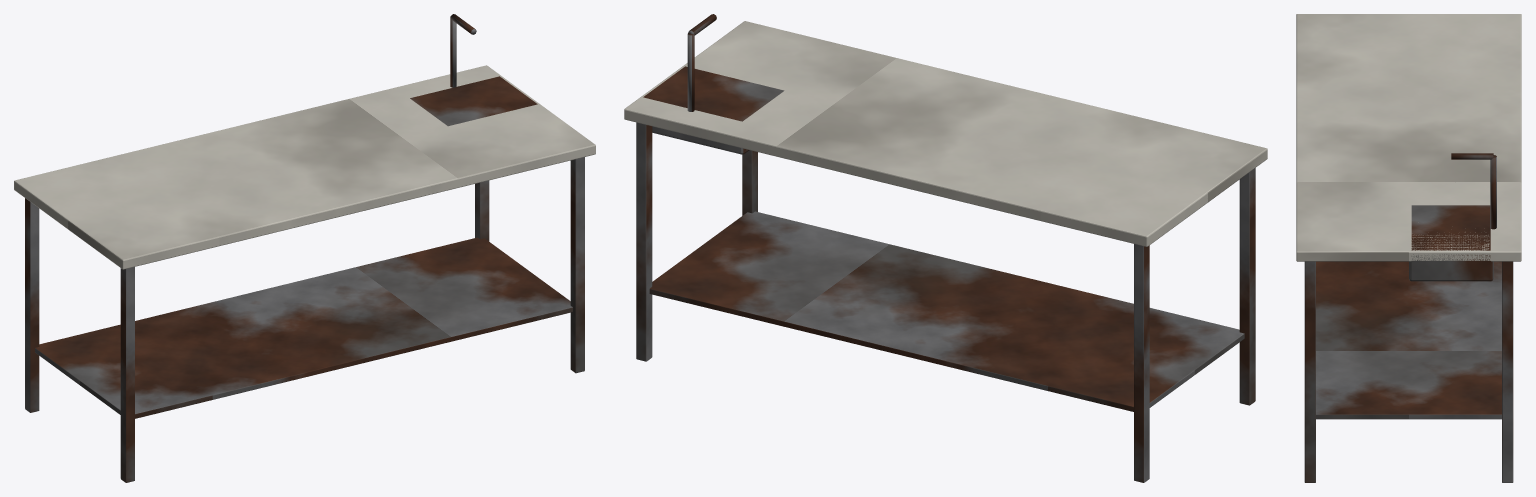
File: Y01_lab_table_v2.glb
3 renders of one model, left to right at view 1: azimuth 30°, elevation 25°; view 2: azimuth 150°, elevation 25°; view 3: azimuth 270°, elevation 25°, orthographic. The views are drawn at different scales.
Parts seen in each view (by area): view 1: Y01_lab_table_v2; view 2: Y01_lab_table_v2; view 3: Y01_lab_table_v2.
Part boxes in pixels (x1,y1,x2,y2): Y01_lab_table_v2: (14, 14, 595, 482); Y01_lab_table_v2: (624, 14, 1267, 482); Y01_lab_table_v2: (1296, 14, 1521, 482).
Size of the model in its own units: 2 by 1.21 by 0.8.
2 materials, 2 textured.
